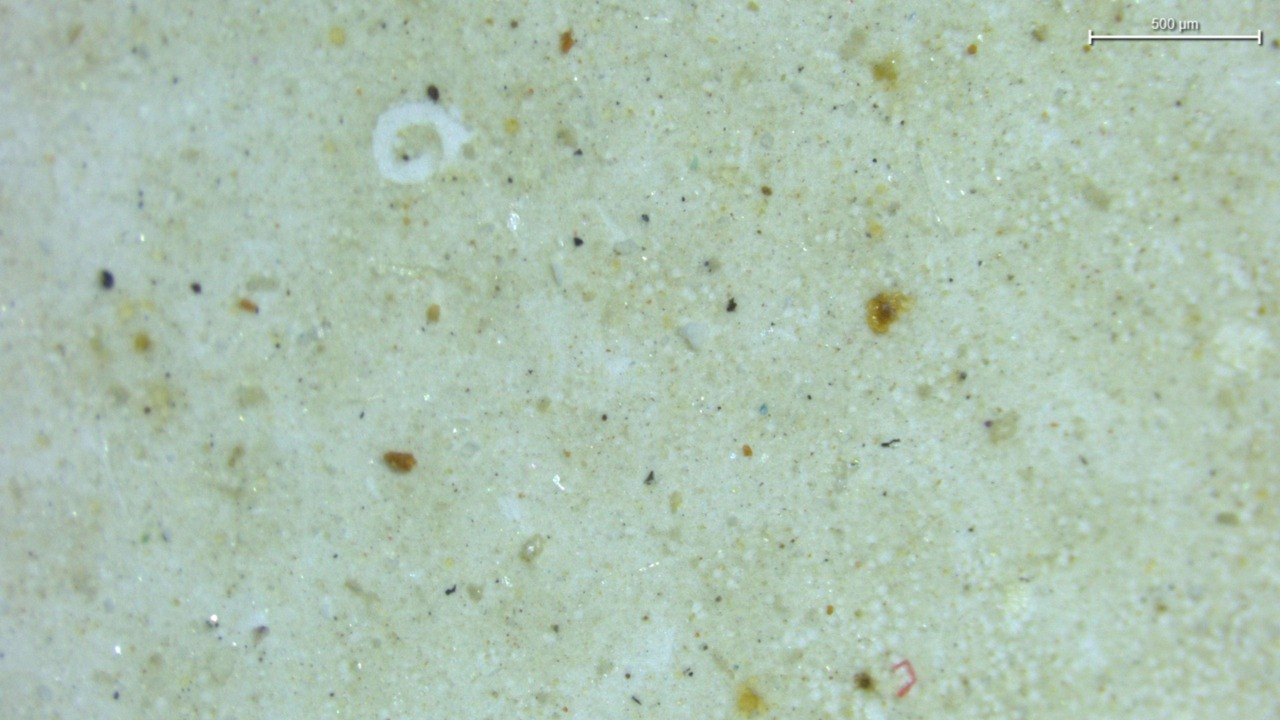microplastic_fragment: (678, 321, 709, 350), (551, 253, 565, 283), (613, 240, 641, 254)
